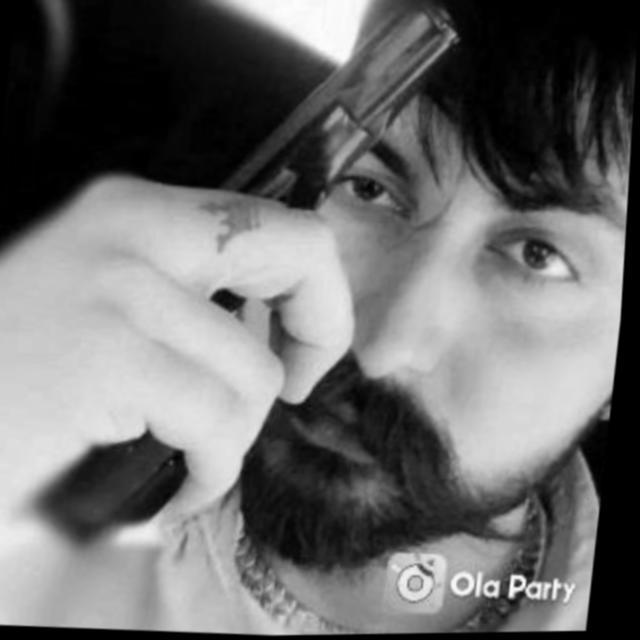weapon: (22, 0, 473, 577)
